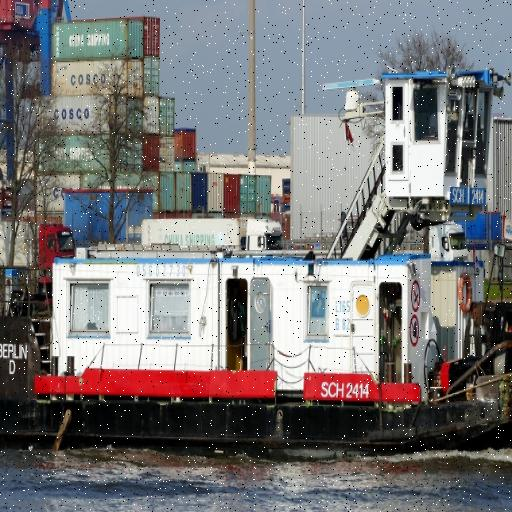tugboat: (1, 64, 512, 471)
